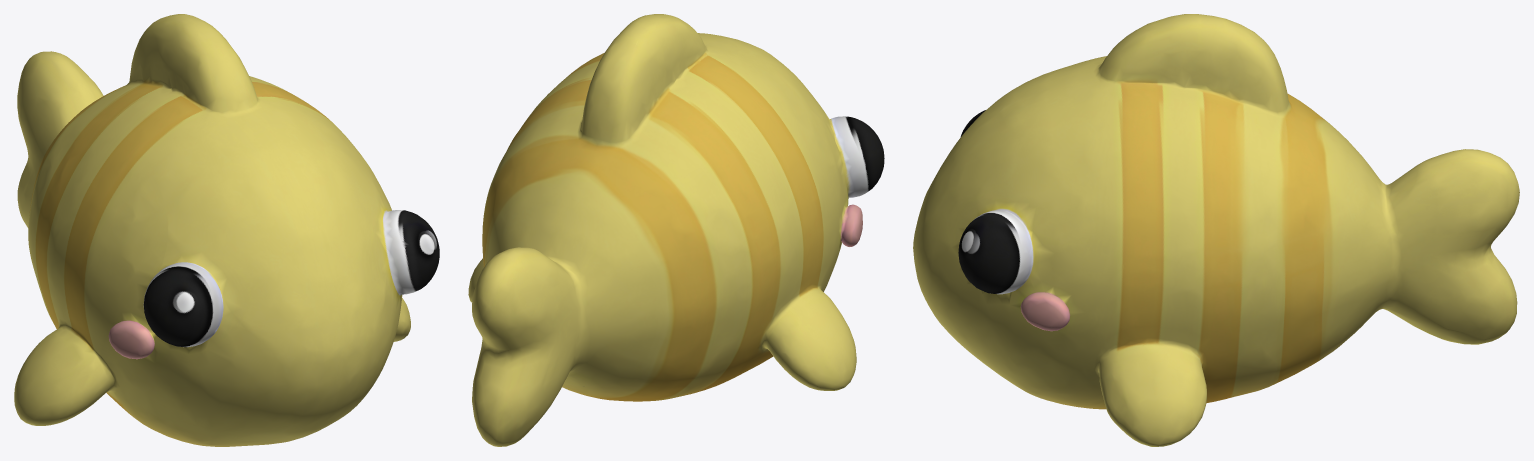
The model's file is fish_yellow.glb.
3 views of the same model, side by side, from view 1: azimuth 30°, elevation 25°; view 2: azimuth 150°, elevation 25°; view 3: azimuth 270°, elevation 25° (orthographic). The views are drawn at different scales.
Parts seen in each view (by area): view 1: tripo_node_db47ea82-f743-4aeb-8d0e-6926fce04842; view 2: tripo_node_db47ea82-f743-4aeb-8d0e-6926fce04842; view 3: tripo_node_db47ea82-f743-4aeb-8d0e-6926fce04842.
Part boxes in pixels (left/top/right/bottom): tripo_node_db47ea82-f743-4aeb-8d0e-6926fce04842: left=14, top=14, right=439, bottom=446; tripo_node_db47ea82-f743-4aeb-8d0e-6926fce04842: left=468, top=14, right=884, bottom=446; tripo_node_db47ea82-f743-4aeb-8d0e-6926fce04842: left=913, top=14, right=1519, bottom=446.
Bounding box in the file's own units: 0.7092 × 0.6632 × 0.98.
1 material, 1 textured.
